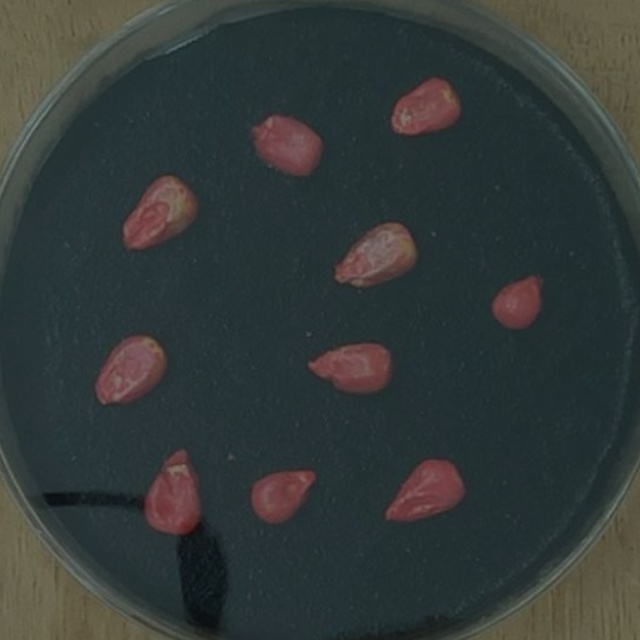Zea mays: (113, 165, 208, 260), (324, 213, 426, 297), (85, 324, 176, 416), (135, 437, 210, 542), (297, 329, 399, 405), (377, 450, 473, 529), (242, 108, 330, 189), (381, 70, 469, 145), (245, 457, 324, 531), (482, 267, 551, 339)
